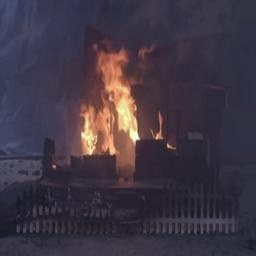fire: (77, 48, 157, 159)
